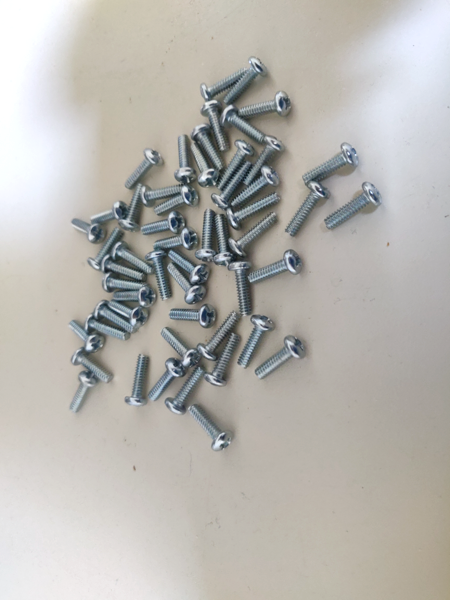shortscrew: (324, 182, 383, 230), (285, 181, 330, 238), (302, 142, 359, 184), (255, 336, 307, 380), (229, 212, 278, 258), (224, 56, 269, 105), (198, 311, 241, 362), (226, 192, 282, 231), (243, 136, 285, 188), (189, 404, 234, 452), (237, 315, 276, 370), (232, 165, 281, 208), (212, 160, 252, 211), (204, 332, 240, 388), (165, 366, 206, 415), (217, 141, 256, 192), (221, 105, 267, 146), (248, 250, 303, 284), (148, 358, 188, 403), (200, 67, 249, 103), (167, 263, 208, 305), (191, 123, 225, 173), (124, 149, 164, 191), (88, 227, 123, 274), (70, 346, 113, 384), (160, 328, 201, 367), (200, 100, 230, 153), (94, 301, 139, 334), (239, 92, 292, 120), (154, 185, 200, 217), (118, 183, 148, 232), (111, 242, 155, 275), (146, 250, 173, 302), (169, 250, 210, 284), (190, 142, 220, 188), (228, 261, 252, 317), (124, 354, 149, 406), (85, 313, 131, 341), (213, 214, 237, 266), (195, 209, 218, 263), (70, 371, 98, 415), (69, 321, 106, 354), (140, 184, 190, 208), (141, 211, 187, 237), (109, 299, 150, 328), (170, 304, 217, 329), (153, 227, 199, 252), (91, 201, 130, 228), (175, 135, 196, 185), (71, 218, 107, 245), (114, 286, 157, 308), (102, 274, 148, 290)
